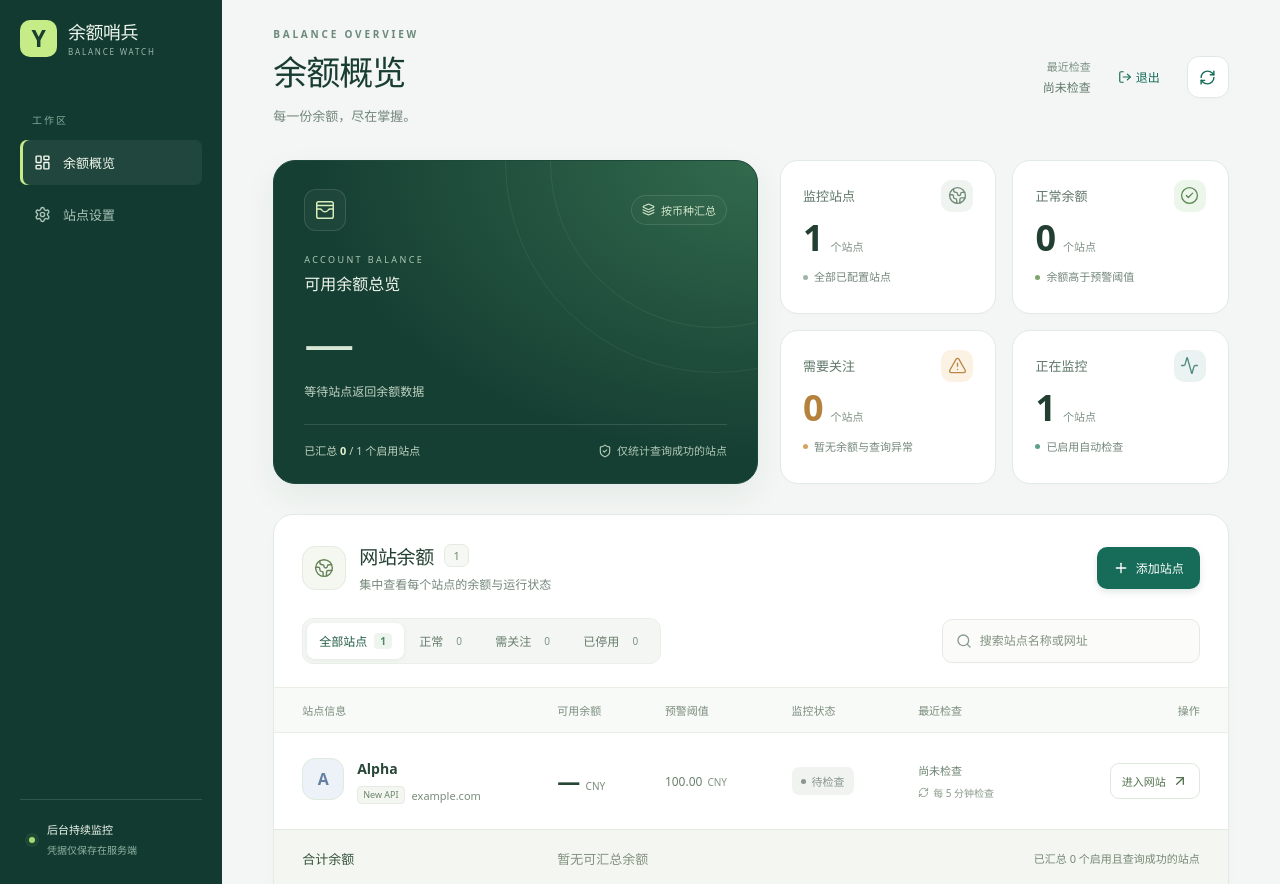
React 页面流程 › New API 站点使用独立 Key 查询消耗，不受登录认证方式限制
Click the button "Alpha".
click(377, 768)  # box [357, 758, 398, 779]
(page scrolled)
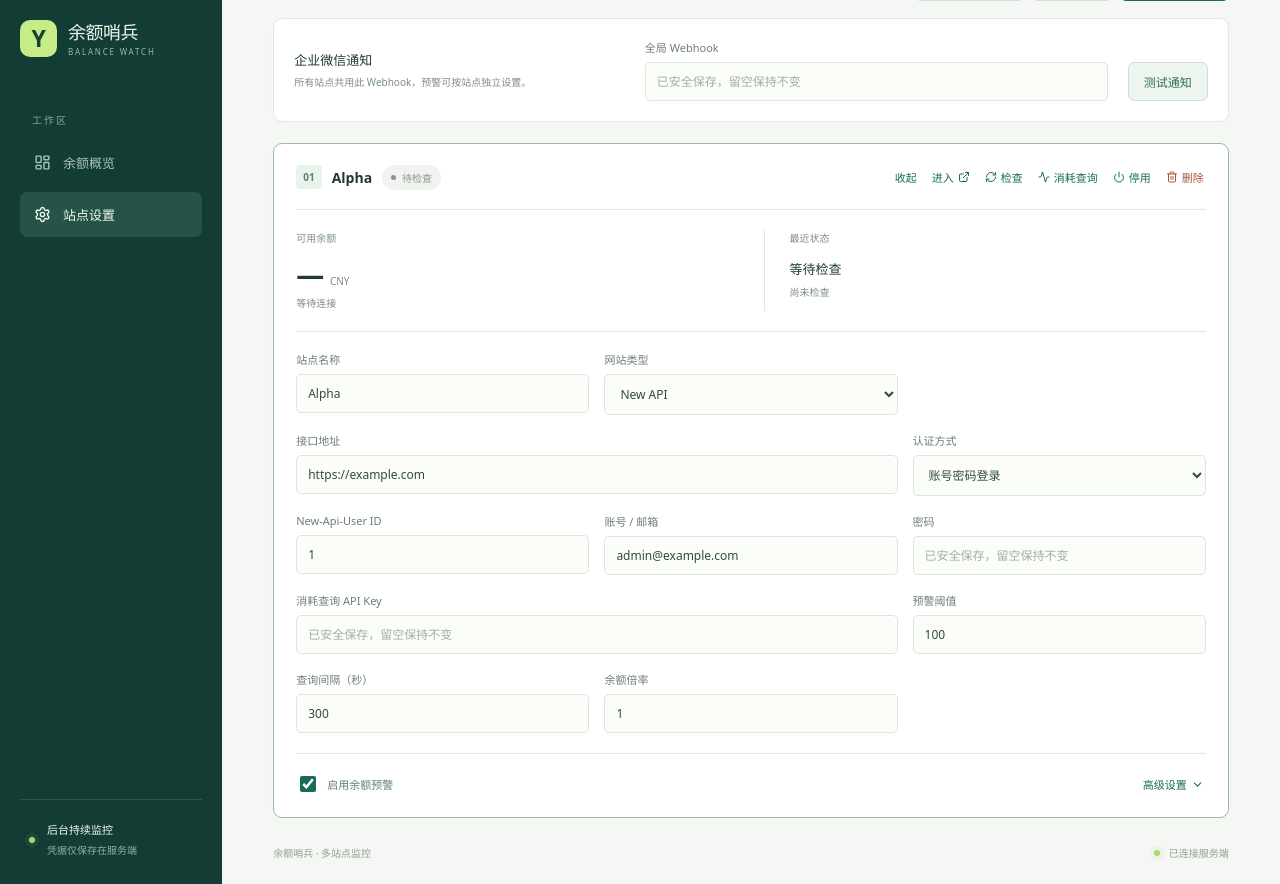
Check: the password field labelled "消耗查询 API Key" has attribute placeholder="已安全保存，留空保持不变", box [296, 615, 898, 654]
Click the button "消耗查询".
click(1068, 177)  # box [1036, 164, 1100, 190]
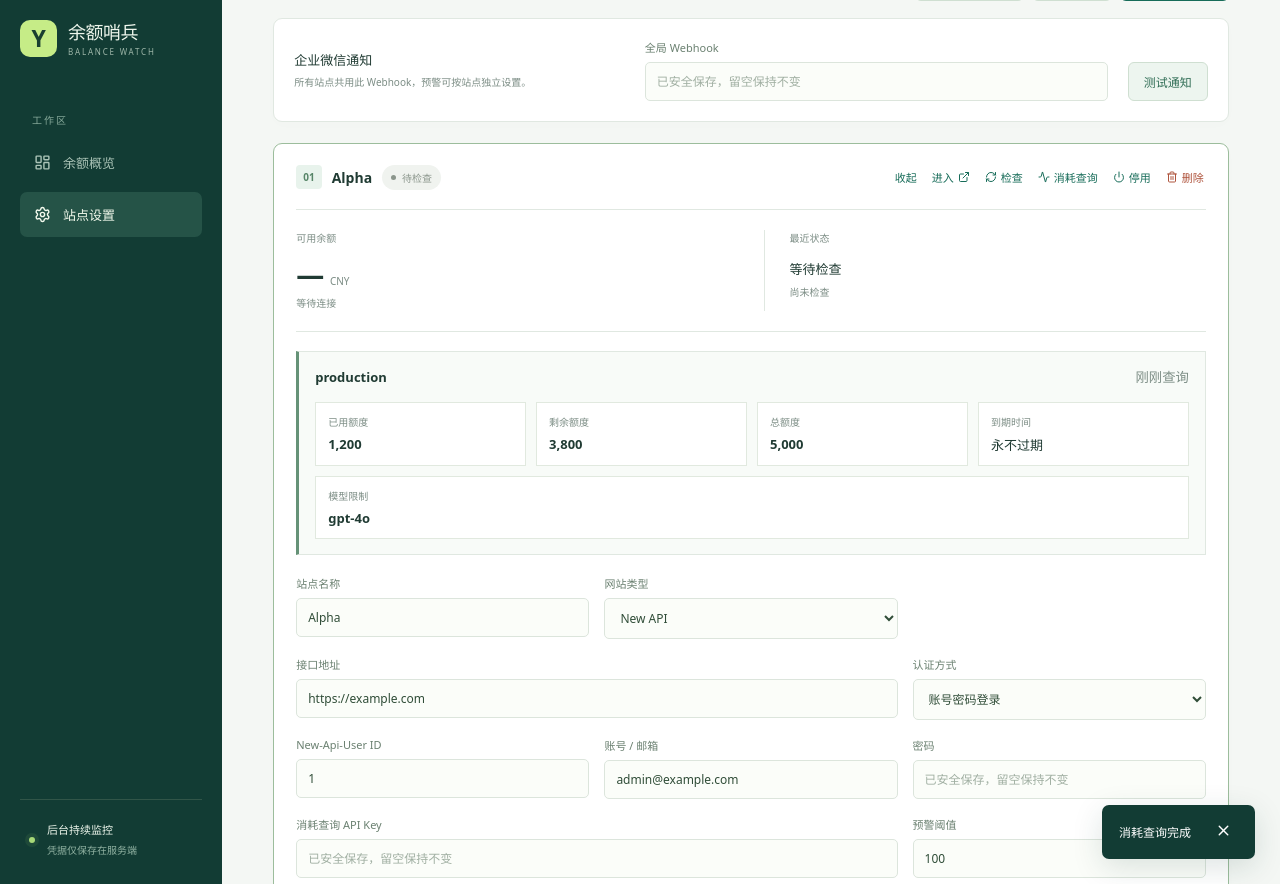
Check: the text "production" is shown, box [315, 368, 387, 386]
Check: the text "1,200" is shown, box [328, 435, 362, 453]
Check: the text "3,800" is shown, box [549, 435, 583, 453]
